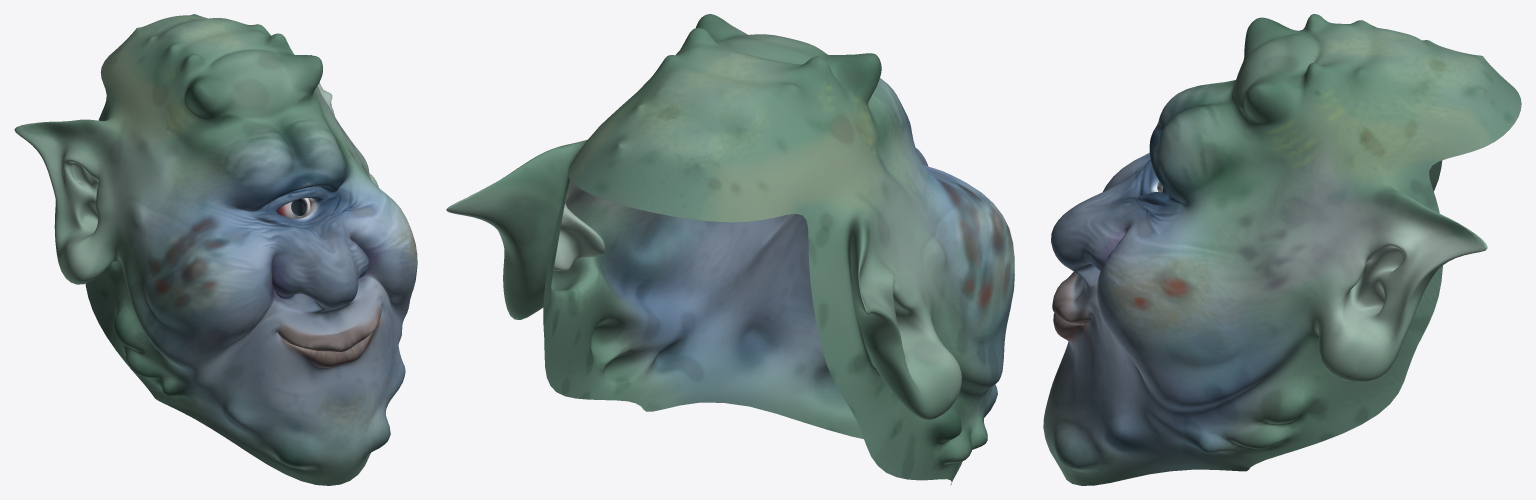
File: bs_smile.obj
3 views of the same model, side by side, from view 1: azimuth 30°, elevation 25°; view 2: azimuth 150°, elevation 25°; view 3: azimuth 270°, elevation 25° (orthographic). The views are drawn at different scales.
Parts seen in each view (by area): view 1: ogre_00; view 2: ogre_00; view 3: ogre_00.
Part boxes in pixels (bbox=[...]): ogre_00: bbox=[14, 14, 417, 485]; ogre_00: bbox=[446, 14, 1014, 485]; ogre_00: bbox=[1043, 14, 1521, 485].
Bounding box in the file's own units: 1.06 × 1.19 × 1.18.
Materials: 1 (1 with a texture image).
